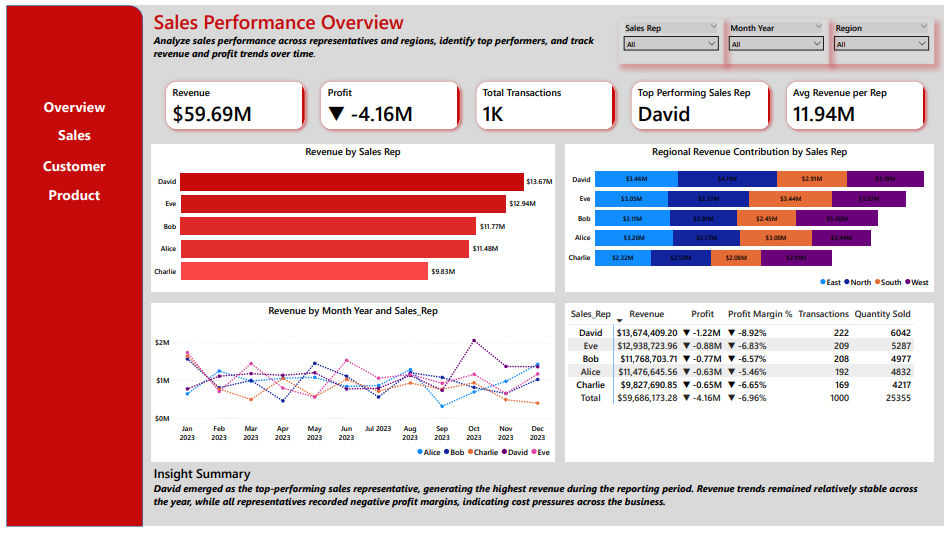

What the dashboard file says about the page in this screenshot:
{"tool":"powerbi","page":{"name":"Sales Performance ","canvas":[1800,1000],"ordinal":1},"visuals":[{"type":"textbox","box":[278,0,894,120],"z":0},{"type":"slicer","fields":{"Values":["sales_data.Sales_Rep"]},"box":[1176,26,202,86],"z":1000},{"type":"slicer","fields":{"Values":["sales_data.Region"]},"box":[1580,26,202,86],"z":2000},{"type":"slicer","fields":{"Values":["sales_data.Month Year"]},"box":[1378,26,202,86],"z":3000},{"type":"cardVisual","fields":{"Data":["Measure Table.Revenue","Measure Table.Profit Margin Display","Measure Table.Total Transactions","Measure Table.Top Sales Rep.","Measure Table.Avg Revenue per Rep"]},"box":[278.4,117.6,1519.2,148.8],"z":4000},{"type":"lineChart","fields":{"Y":["Measure Table.Revenue"],"Category":["sales_data.Month Year"],"Series":["sales_data.Sales_Rep"]},"box":[278,572,776,304],"z":5000},{"type":"barChart","title":"Revenue by Sales Rep","fields":{"Y":["Measure Table.Revenue"],"Category":["sales_data.Sales_Rep"]},"box":[278,266,776,284],"z":6000},{"type":"barChart","title":"Regional Revenue Contribution by Sales Rep","fields":{"Y":["Measure Table.Revenue"],"Category":["sales_data.Sales_Rep"],"Series":["sales_data.Region"]},"box":[1074,266,708,284],"z":7000},{"type":"textbox","box":[278,876,1504,124],"z":8000},{"type":"pivotTable","fields":{"Values":["Measure Table.Revenue","Measure Table.Profit","Measure Table.Profit Margin %","Measure Table.Total Transactions","Measure Table.Quantity Sold"],"Rows":["sales_data.Sales_Rep"]},"box":[1074,572,708,304],"z":9000},{"type":"shape","box":[0,0,262,1000],"z":9001},{"type":"actionButton","box":[0,171,262,41],"z":9002},{"type":"actionButton","box":[0,226,262,40],"z":9003},{"type":"actionButton","box":[0,283.6,261.5,40.2],"z":9004},{"type":"actionButton","box":[0,339.9,261.5,40.2],"z":9005}]}

Visuals, with their boxes in screenshot pixels (x1, y1, x2, y2), scaled from the page's 1800x1000 canvas onto the 951x536 screenshot:
textbox: bbox=(147, 0, 619, 64)
slicer - sales_data.Sales_Rep: bbox=(621, 14, 728, 60)
slicer - sales_data.Region: bbox=(835, 14, 941, 60)
slicer - sales_data.Month Year: bbox=(728, 14, 835, 60)
cardVisual - Measure Table.Revenue x Measure Table.Profit Margin Display: bbox=(147, 63, 950, 143)
lineChart - Measure Table.Revenue x sales_data.Month Year: bbox=(147, 307, 557, 470)
"Revenue by Sales Rep" barChart: bbox=(147, 143, 557, 295)
"Regional Revenue Contribution by Sales Rep" barChart: bbox=(567, 143, 941, 295)
textbox: bbox=(147, 470, 941, 535)
pivotTable - Measure Table.Revenue x Measure Table.Profit: bbox=(567, 307, 941, 470)
shape: bbox=(0, 0, 138, 535)
actionButton: bbox=(0, 92, 138, 114)
actionButton: bbox=(0, 121, 138, 143)
actionButton: bbox=(0, 152, 138, 174)
actionButton: bbox=(0, 182, 138, 204)
